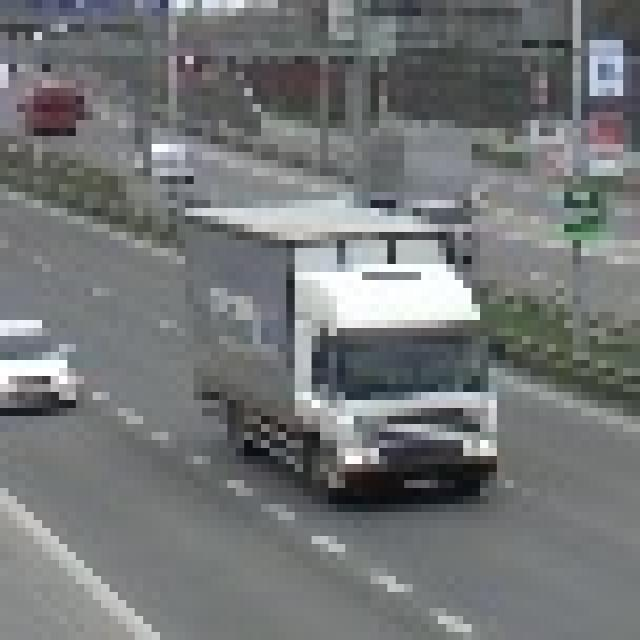truck: (177, 192, 514, 496)
